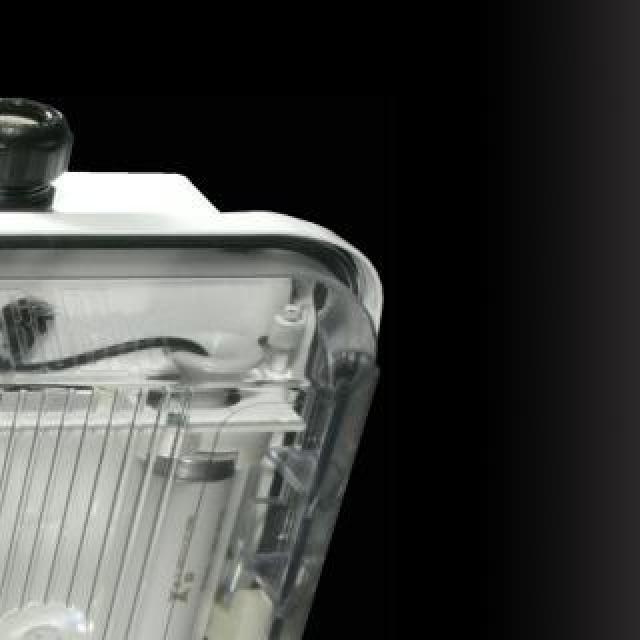fluorescent tube: (0, 384, 296, 640)
